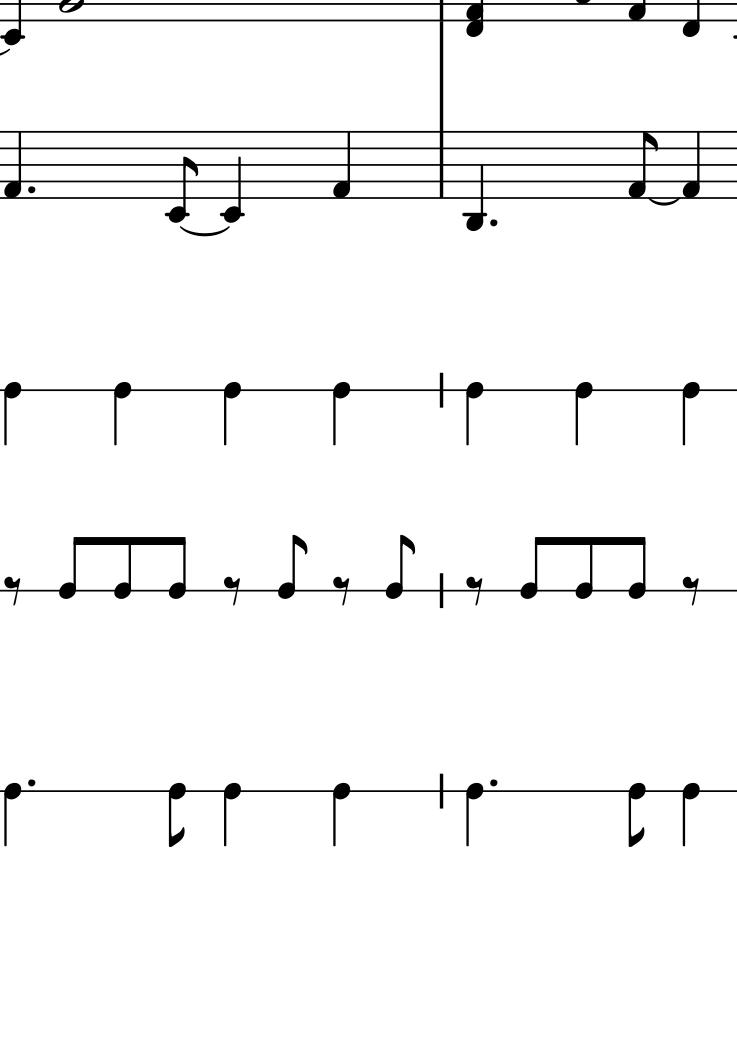4_-2: (218, 127, 244, 224)
4_-3: (462, 126, 485, 236)
4_1: (678, 130, 702, 200), (330, 130, 353, 202), (3, 130, 24, 201)
4_4: (330, 380, 351, 449), (330, 781, 351, 850), (112, 379, 132, 449), (222, 379, 242, 449), (464, 379, 484, 449), (222, 781, 242, 850), (464, 781, 484, 850), (2, 381, 22, 449), (680, 380, 700, 448), (680, 781, 700, 849), (2, 783, 22, 850), (574, 379, 593, 449)
8_-2: (162, 129, 200, 224)
8_1: (625, 129, 660, 201)
8_4: (276, 534, 309, 600), (384, 535, 417, 601), (60, 535, 85, 601), (519, 534, 544, 600), (167, 780, 187, 850), (628, 536, 648, 601), (574, 535, 594, 600), (167, 535, 187, 600), (114, 535, 134, 600)
8_6: (627, 782, 646, 851)
Rests8: (3, 574, 26, 607), (331, 574, 354, 607), (680, 574, 703, 607), (222, 574, 244, 607), (464, 574, 486, 607)
Single_barline: (432, 132, 450, 199)
Slur: (183, 226, 230, 239), (649, 198, 683, 207)
dot: (487, 774, 501, 790), (24, 775, 38, 790), (24, 182, 37, 197), (487, 216, 500, 230)
